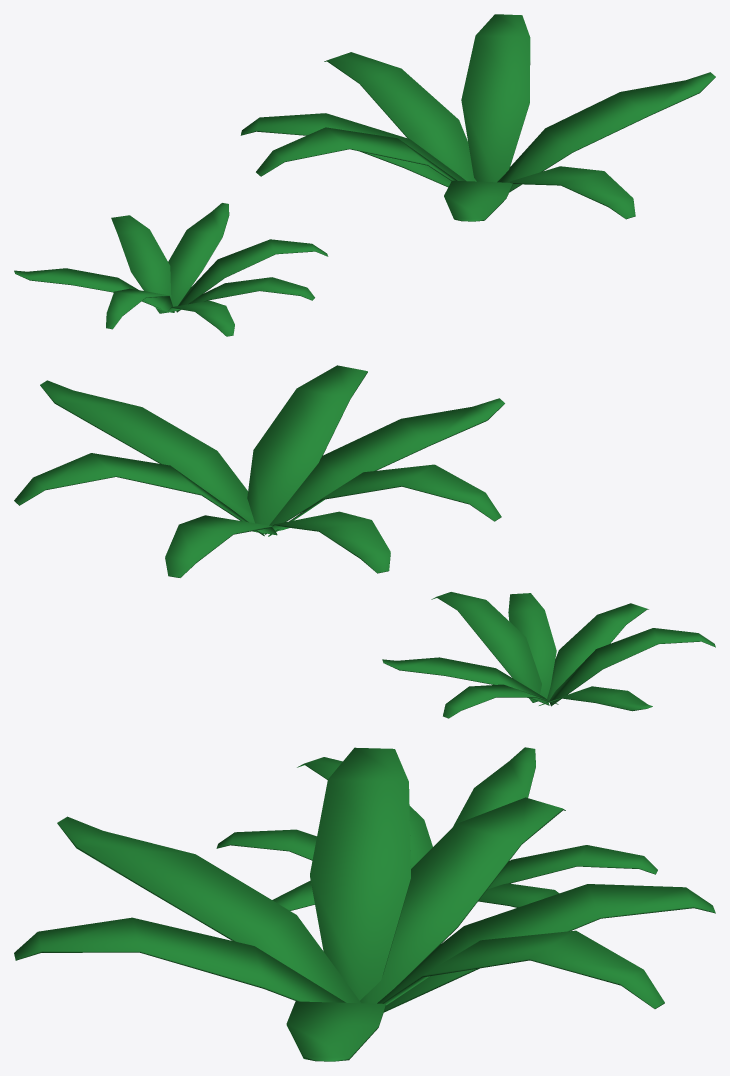
File: Grass2fbx.fbx
3 views of the same model, one above another, from view 1: azimuth 30°, elevation 25°; view 2: azimuth 150°, elevation 25°; view 3: azimuth 270°, elevation 25° (orthographic). The views are drawn at different scales.
Visible parts, largest first — view 1: Plane.009, Plane.008; view 2: Plane.009, Plane.008; view 3: Plane.009, Plane.008.
Part boxes in pixels (<box>): Plane.009: <box>240,14,715,221</box>; Plane.008: <box>14,203,328,336</box>; Plane.009: <box>14,365,504,577</box>; Plane.008: <box>382,592,715,718</box>; Plane.009: <box>14,747,715,1061</box>; Plane.008: <box>216,747,657,910</box>.
Bounding box in the file's own units: 165 × 39.04 × 107.
